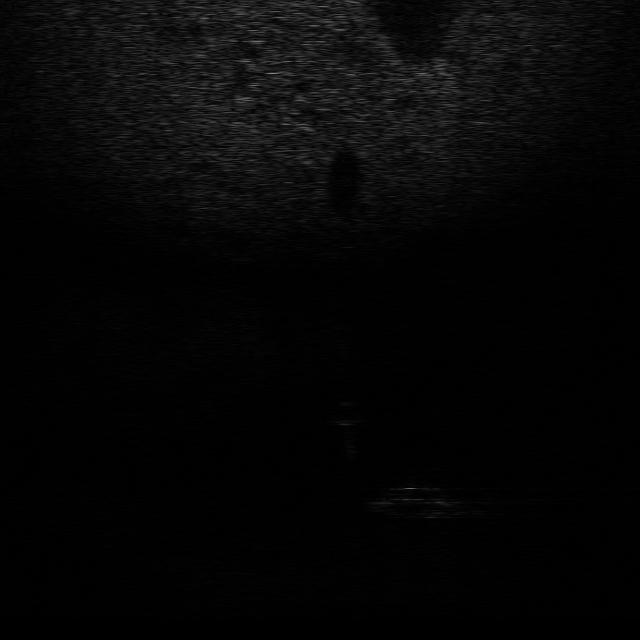ball: (319, 397, 369, 427)
tyre: (362, 482, 468, 519)
